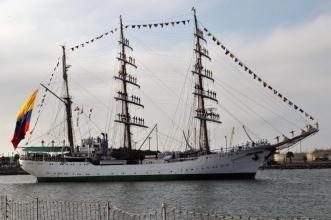fanchuan: (18, 13, 320, 180)
